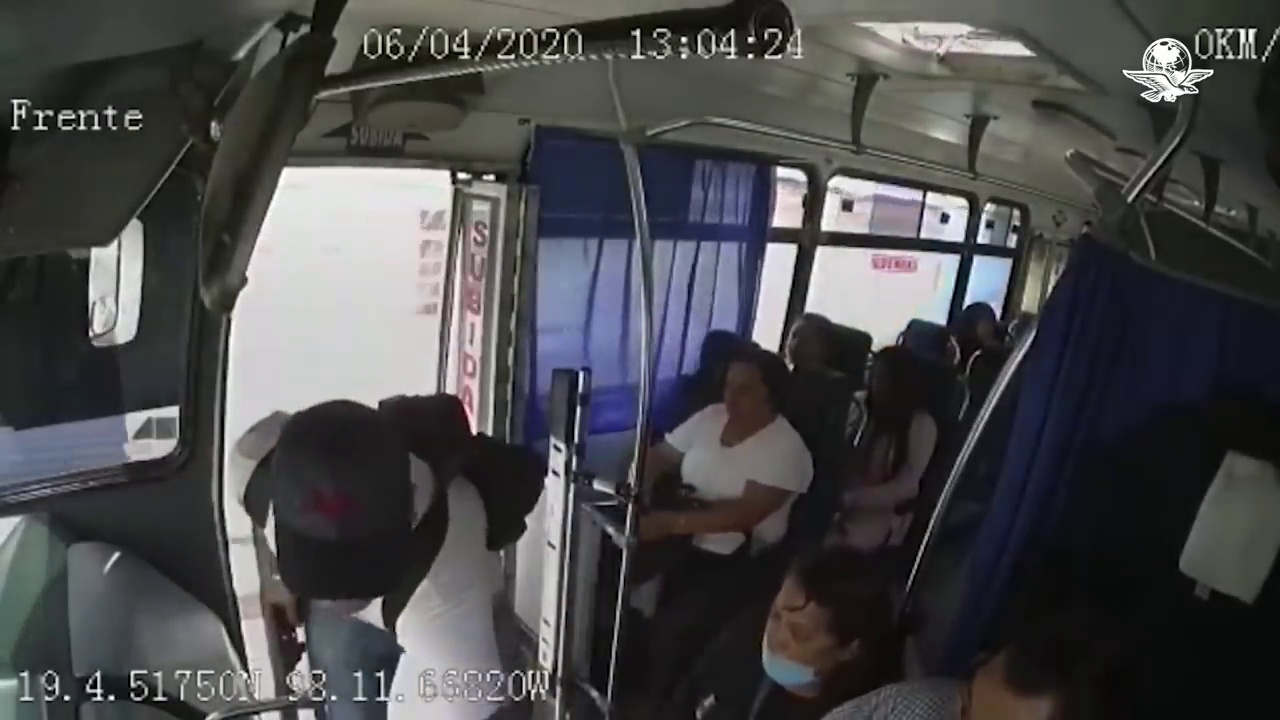pistol: (265, 596, 311, 696)
